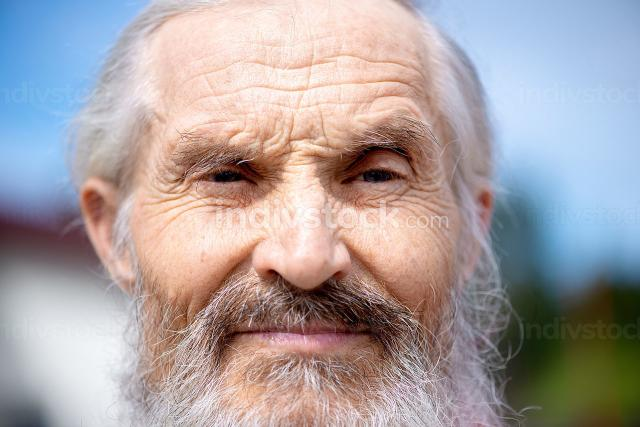crows_feet: (158, 170, 188, 214), (411, 168, 441, 206)
forehead: (252, 80, 326, 110), (244, 52, 332, 76), (353, 76, 413, 100), (351, 49, 413, 70), (186, 59, 232, 81), (196, 88, 236, 102)
frown_line: (281, 128, 327, 164)
gummy_smile: (346, 244, 386, 286), (215, 244, 251, 284)
